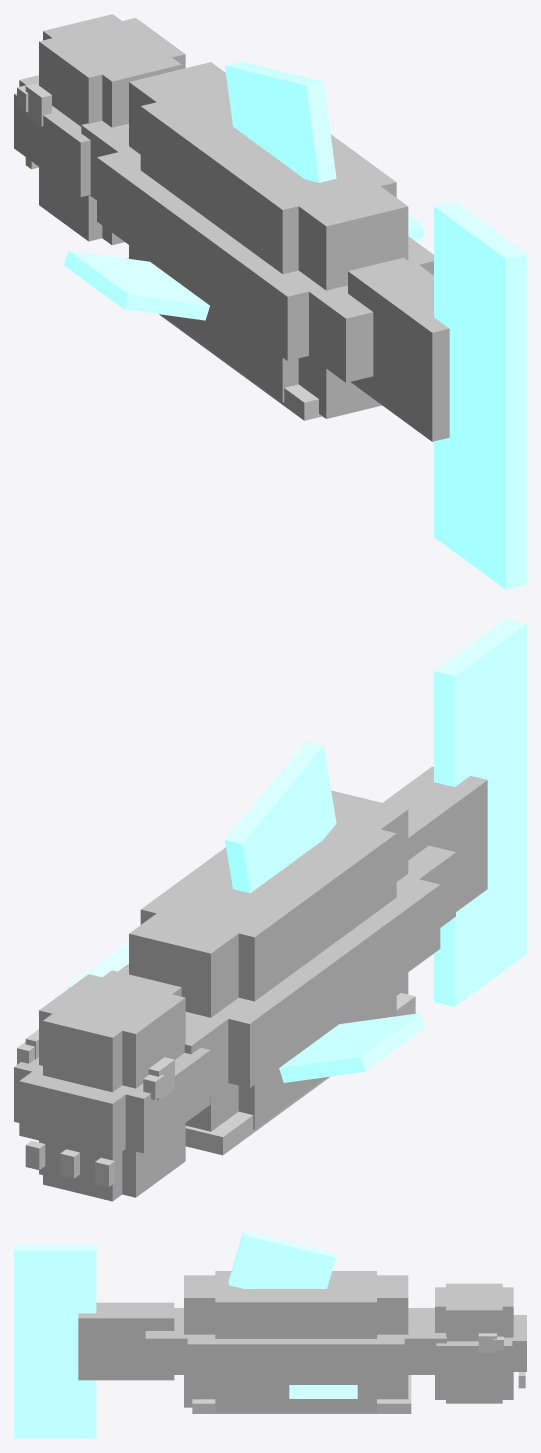
File: CyberShark.fbx
The picture shows the model from 3 angles, top to bottom: view 1: azimuth 30°, elevation 25°; view 2: azimuth 150°, elevation 25°; view 3: azimuth 270°, elevation 25°; orthographic projection. The views are drawn at different scales.
Parts seen in each view (by area): view 1: Cyber Shark_tail_18, Cyber Shark_body_4, Cyber Shark_body_2, Cyber Shark_body_5, Cyber Shark_tail_17, Cyber Shark_body_21, Cyber Shark_head_11, Cyber Shark_body_3, Cyber Shark_wingL_20, Cyber Shark_head_12, Cyber Shark_body_0, Cyber Shark_head_9 (+4 smaller); view 2: Cyber Shark_tail_18, Cyber Shark_body_4, Cyber Shark_body_2, Cyber Shark_body_5, Cyber Shark_body_21, Cyber Shark_head_12, Cyber Shark_head_11, Cyber Shark_tail_17, Cyber Shark_head_10, Cyber Shark_head_9, Cyber Shark_wingL_20, Cyber Shark_body_3 (+6 smaller); view 3: Cyber Shark_tail_18, Cyber Shark_body_2, Cyber Shark_body_4, Cyber Shark_tail_17, Cyber Shark_body_5, Cyber Shark_body_21, Cyber Shark_body_3, Cyber Shark_body_0, Cyber Shark_head_11, Cyber Shark_head_9, Cyber Shark_head_7, Cyber Shark_head_12 (+6 smaller).
Boxes of the visible parts, x1,y1,x2,y2 form: Cyber Shark_tail_18: (434,201,526,589); Cyber Shark_body_4: (140,85,396,274); Cyber Shark_body_2: (97,148,433,360); Cyber Shark_body_5: (129,62,408,290); Cyber Shark_tail_17: (348,257,449,441); Cyber Shark_body_21: (225,61,336,182); Cyber Shark_head_11: (39,18,185,126); Cyber Shark_body_3: (81,120,433,382); Cyber Shark_wingL_20: (64,250,209,320); Cyber Shark_head_12: (43,14,181,127); Cyber Shark_body_0: (140,254,298,402); Cyber Shark_head_9: (14,93,90,196); Cyber Shark_tail_18: (434,618,526,1006); Cyber Shark_body_4: (140,818,396,1001); Cyber Shark_body_2: (118,876,440,1088); Cyber Shark_body_5: (129,790,408,1017); Cyber Shark_body_21: (225,741,336,893); Cyber Shark_head_12: (43,970,181,1092); Cyber Shark_head_11: (39,974,185,1088); Cyber Shark_tail_17: (383,766,487,911); Cyber Shark_head_10: (19,1065,133,1158); Cyber Shark_head_9: (14,1047,210,1153); Cyber Shark_wingL_20: (279,1013,425,1082); Cyber Shark_body_3: (184,845,455,1095); Cyber Shark_tail_18: (14,1244,96,1438); Cyber Shark_body_2: (187,1338,404,1380); Cyber Shark_body_4: (215,1271,376,1338); Cyber Shark_tail_17: (78,1302,174,1380); Cyber Shark_body_5: (184,1275,408,1334); Cyber Shark_body_21: (228,1230,336,1288); Cyber Shark_body_3: (145,1308,446,1374); Cyber Shark_body_0: (215,1381,376,1411); Cyber Shark_head_11: (446,1283,502,1341); Cyber Shark_head_9: (436,1339,512,1376); Cyber Shark_head_7: (446,1377,502,1403); Cyber Shark_head_12: (435,1287,513,1337).
Bounding box in the file's own units: 174 × 196 × 449.
